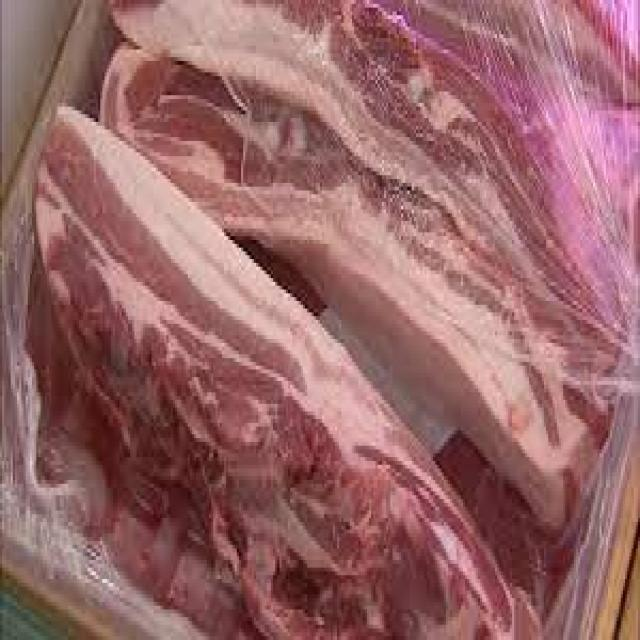Pork: (36, 107, 516, 638)
